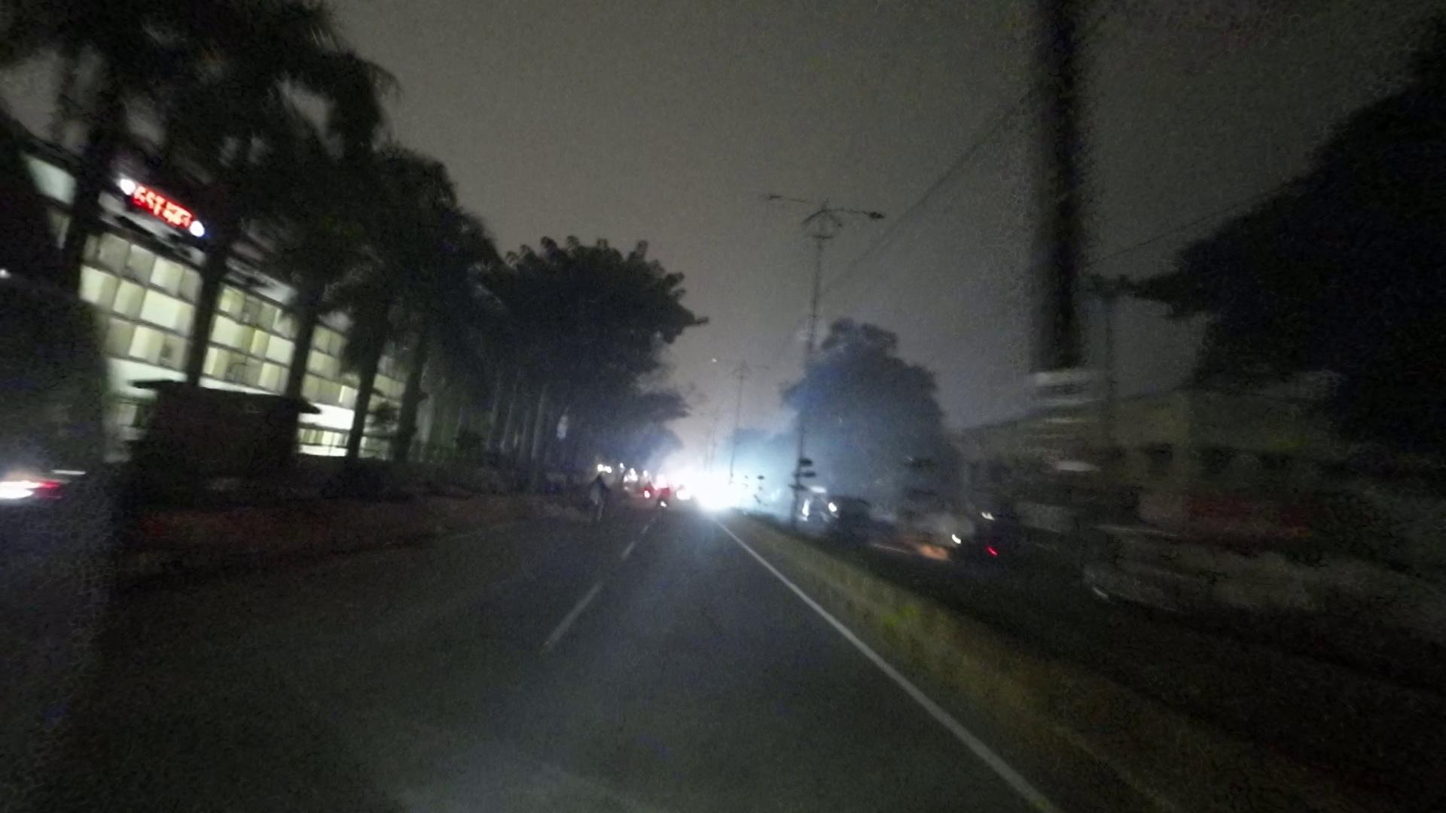streetlight: (763, 192, 824, 210), (831, 204, 885, 224)
